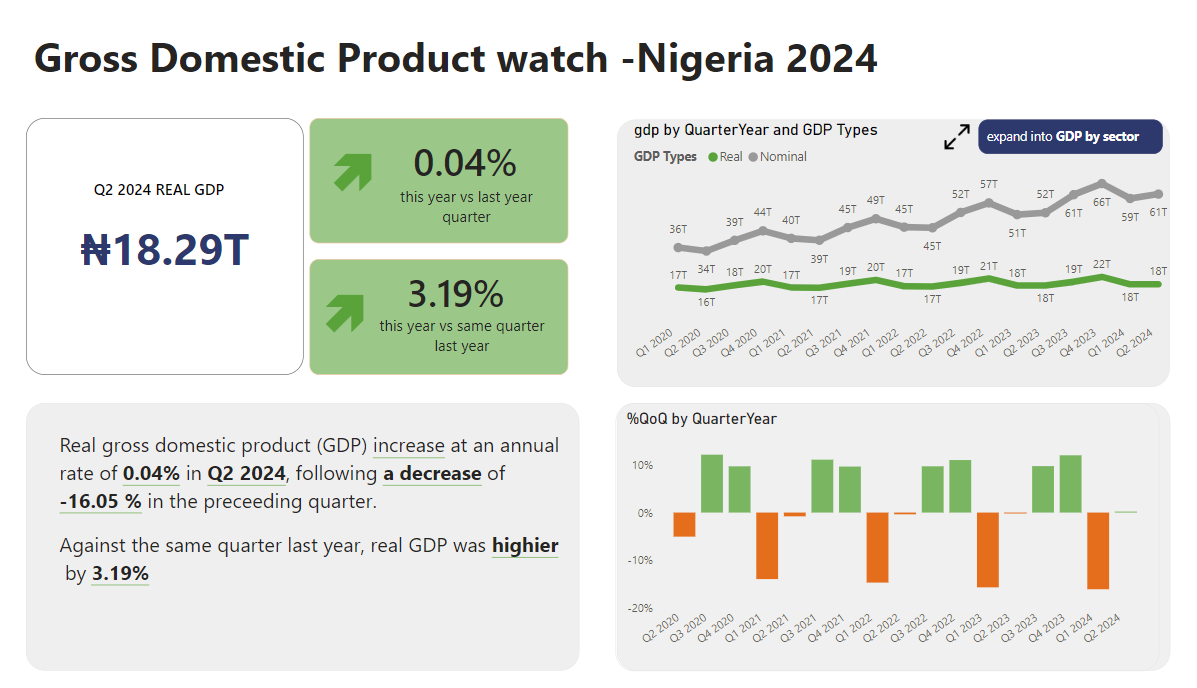

What the dashboard file says about the page in this screenshot:
{"tool":"powerbi","page":{"name":"Page 1","canvas":[1366,768],"ordinal":0},"visuals":[{"type":"textbox","box":[394.4,153.7,275.1,133.5],"z":0},{"type":"textbox","title":"YoY Backgrournd ","box":[394.4,303.4,275.1,123.4],"z":1000},{"type":"textbox","box":[95.1,52.6,956.7,85],"z":2000},{"type":"card","fields":{"Values":["Measures_.%YoY"]},"box":[479.4,303.4,141.6,68.8],"z":3000},{"type":"card","fields":{"Values":["Measures_.%QoQ"]},"box":[467.2,163.8,184.1,68.8],"z":4000},{"type":"card","fields":{"Values":["Measures_.YoY indicator"]},"box":[392.4,311.5,76.9,91],"z":5000},{"type":"card","fields":{"Values":["Measures_.Curent real gdp"]},"box":[93,153.7,295.3,273.1],"z":6000},{"type":"textbox","box":[461.2,358,190.1,54.6],"z":7000},{"type":"textbox","box":[720.8,154.6,588.2,284.4],"z":8000},{"type":"lineChart","fields":{"Y":["Measures_.gdp"],"Series":["GDP.GDP Types "],"Category":["Date_Table.QuarterYear"]},"box":[734.6,154.6,579.9,276.2],"z":9000},{"type":"textbox","box":[93.3,457.1,588.8,284.8],"z":11000},{"type":"textbox","box":[465.2,220.5,190.1,54.6],"z":12000},{"type":"textbox","box":[720.5,457.1,588.8,284.8],"z":13000},{"type":"textbox","box":[1106.2,154.8,196.3,36.7],"z":14000},{"type":"multiRowCard","fields":{"Values":["Measures_.Curent real gdp Tex"]},"box":[159.8,212.4,163.8,40.5],"z":15000},{"type":"clusteredColumnChart","fields":{"Y":["Measures_.%QoQ"],"Category":["Date_Table.QuarterYear"]},"box":[720.1,457.1,578.5,285.2],"z":16000},{"type":"textbox","title":"Report Narative","box":[122.6,480,545.4,216.5],"z":17000},{"type":"image","box":[1064.7,153.2,36.8,40],"z":18000},{"type":"group","title":"Group 1","box":[706.7,112.3,635.2,629.1],"z":19000},{"type":"group","title":"Group 2","box":[705.9,113.3,635.1,629.1],"z":20000},{"type":"card","fields":{"Values":["Measures_.QoQ indicator"]},"box":[395.8,164.4,87.8,84.6],"z":21000}]}

Visuals, with their boxes in screenshot pixels (x1, y1, x2, y2), scaled from the page's 1366x768 canvas onto the 1197x688 screenshot:
textbox: (left=346, top=138, right=587, bottom=257)
"YoY Backgrournd " textbox: (left=346, top=272, right=587, bottom=382)
textbox: (left=83, top=47, right=922, bottom=123)
card - Measures_.%YoY: (left=420, top=272, right=544, bottom=333)
card - Measures_.%QoQ: (left=409, top=147, right=571, bottom=208)
card - Measures_.YoY indicator: (left=344, top=279, right=411, bottom=361)
card - Measures_.Curent real gdp: (left=81, top=138, right=340, bottom=382)
textbox: (left=404, top=321, right=571, bottom=370)
textbox: (left=632, top=138, right=1147, bottom=393)
lineChart - Measures_.gdp x GDP.GDP Types : (left=644, top=138, right=1152, bottom=386)
textbox: (left=82, top=409, right=598, bottom=665)
textbox: (left=408, top=198, right=574, bottom=246)
textbox: (left=631, top=409, right=1147, bottom=665)
textbox: (left=969, top=139, right=1141, bottom=172)
multiRowCard - Measures_.Curent real gdp Tex: (left=140, top=190, right=284, bottom=227)
clusteredColumnChart - Measures_.%QoQ x Date_Table.QuarterYear: (left=631, top=409, right=1138, bottom=665)
"Report Narative" textbox: (left=107, top=430, right=585, bottom=624)
image: (left=933, top=137, right=965, bottom=173)
"Group 1" group: (left=619, top=101, right=1176, bottom=664)
"Group 2" group: (left=619, top=101, right=1175, bottom=665)
card - Measures_.QoQ indicator: (left=347, top=147, right=424, bottom=223)
